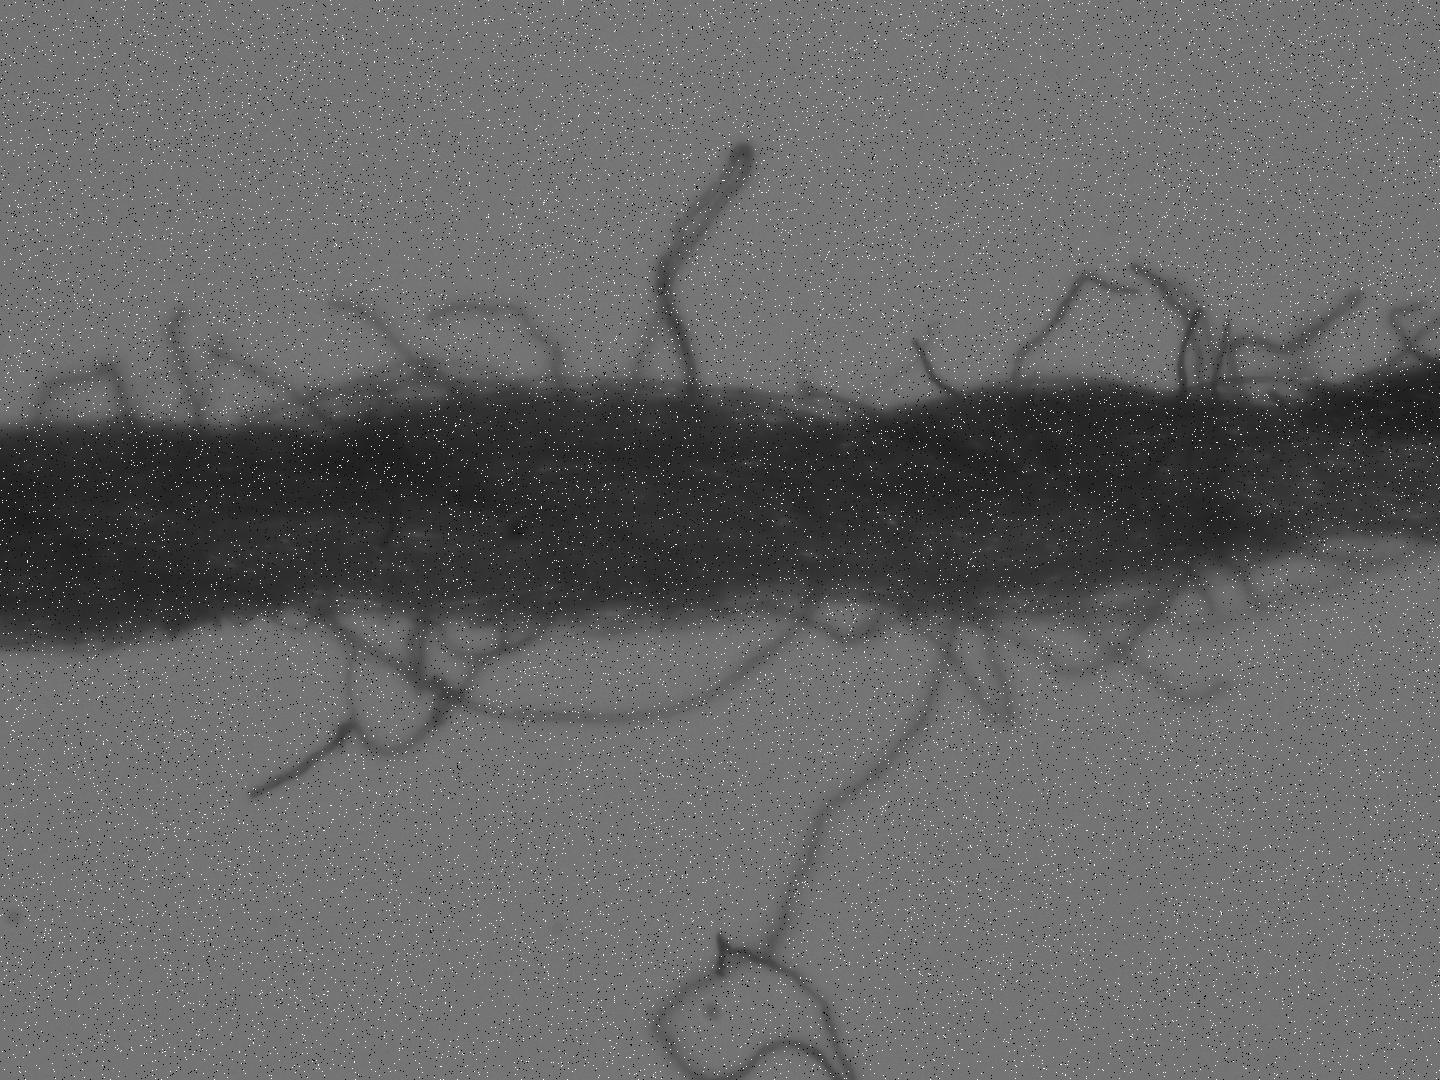loop_fiber: (271, 585, 830, 731), (310, 600, 567, 759), (964, 543, 1431, 631), (927, 559, 1205, 676), (654, 138, 757, 400), (887, 585, 1020, 732), (35, 357, 138, 434)
protruding_fiber: (731, 581, 964, 962), (1026, 579, 1244, 710), (654, 945, 842, 1079), (321, 298, 486, 407), (999, 267, 1140, 395), (1225, 293, 1370, 402), (425, 297, 570, 390), (164, 303, 210, 427), (909, 329, 981, 399)
